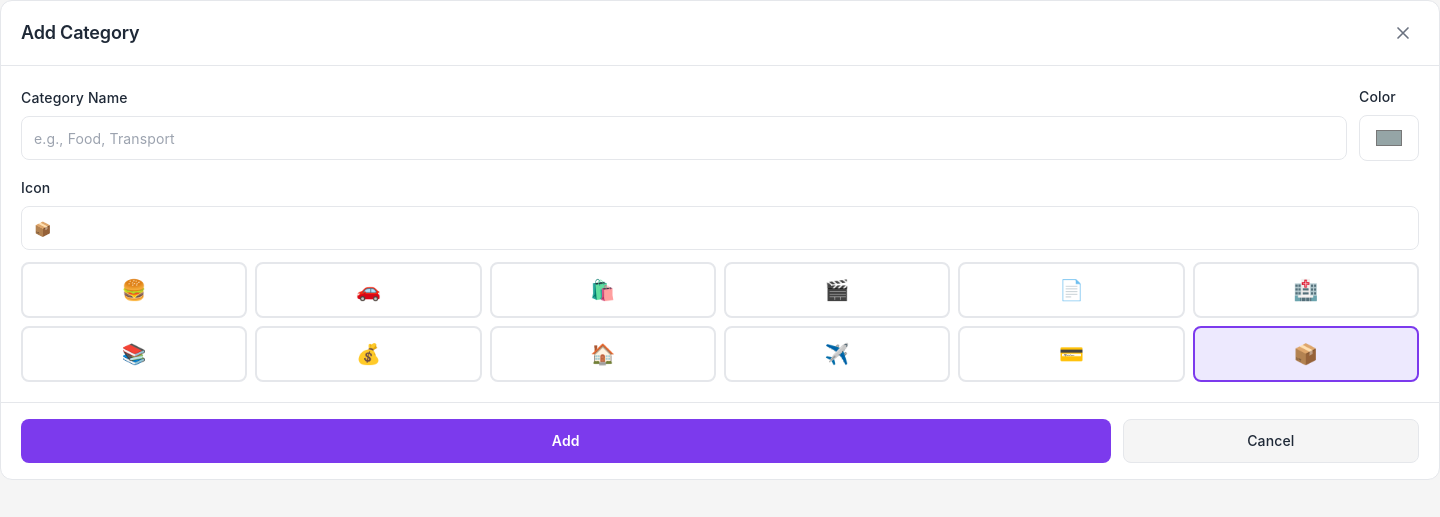
CategoryForm › shows validation error when name is empty
Click the button "Add": click(566, 441) x1=21 y1=419 x2=1111 y2=463
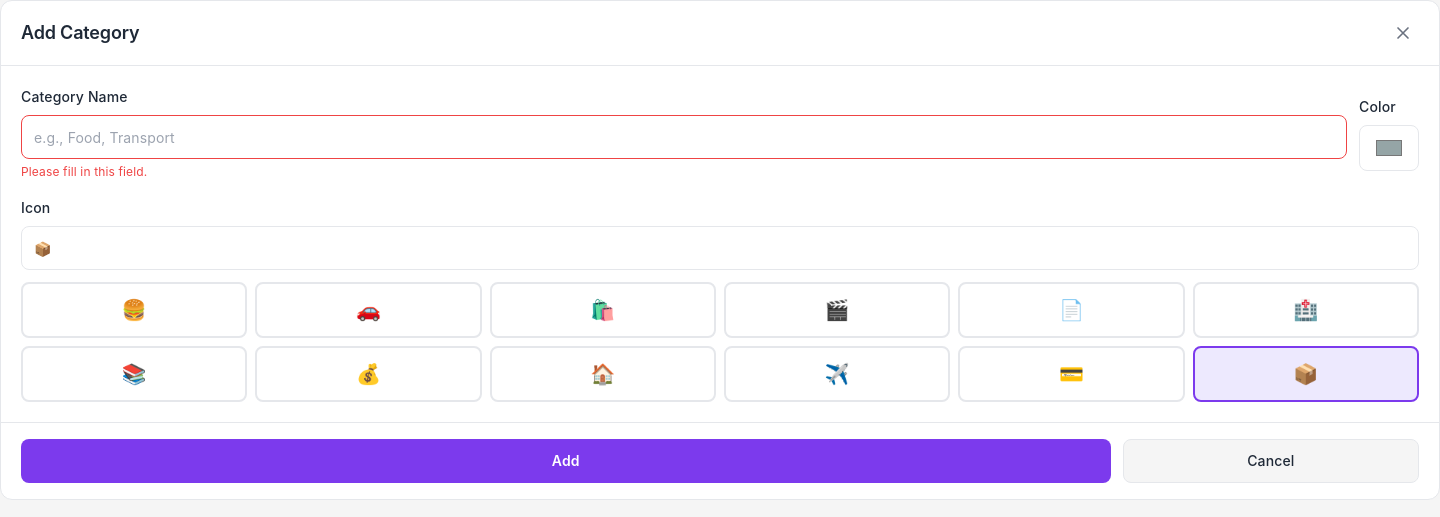
Now the text "Please fill in this field." is shown, box x1=21 y1=164 x2=147 y2=179
